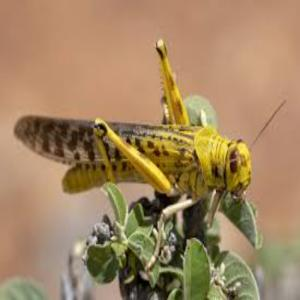locust: (12, 89, 264, 202)
